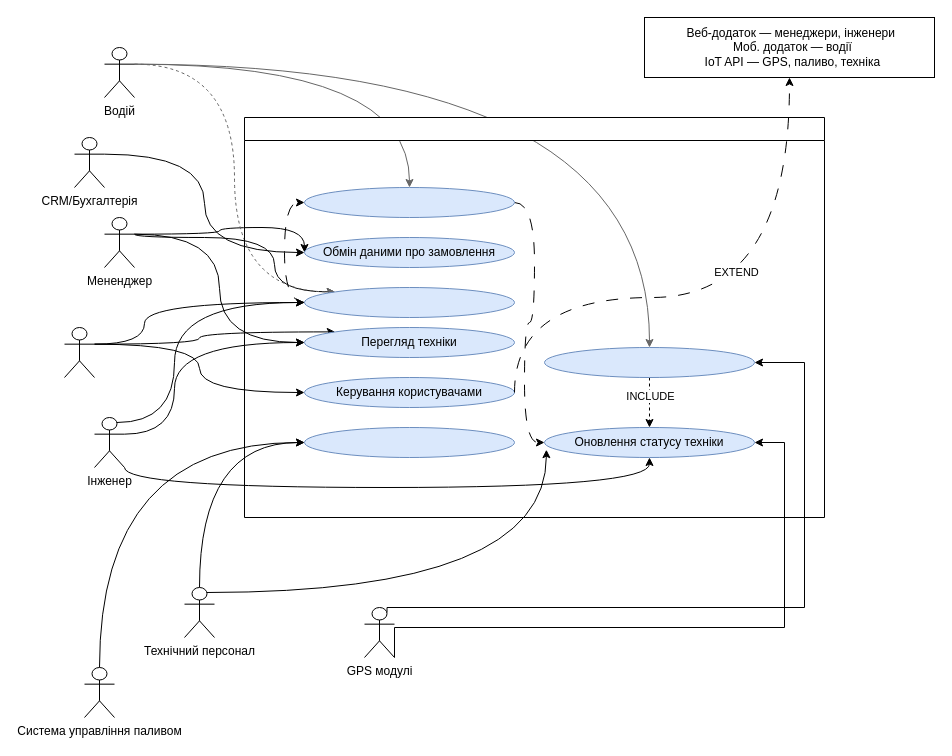
Some shapes in this 952 by 756 pixel diagram are drawn without their labels. Here are the shapes that lost their labels. From the top down, the box of each, then its label:
(304, 186, 514, 218): Підтвердження виконання
(304, 286, 514, 318): Планування роботи техніки
(244, 116, 824, 518): Система керування технікою на будівельному майданчику.
(64, 326, 94, 378): Адміністратор
(544, 346, 754, 378): Передача даних про місцезнаходження
(304, 426, 514, 458): Синхронізація витрат палива
